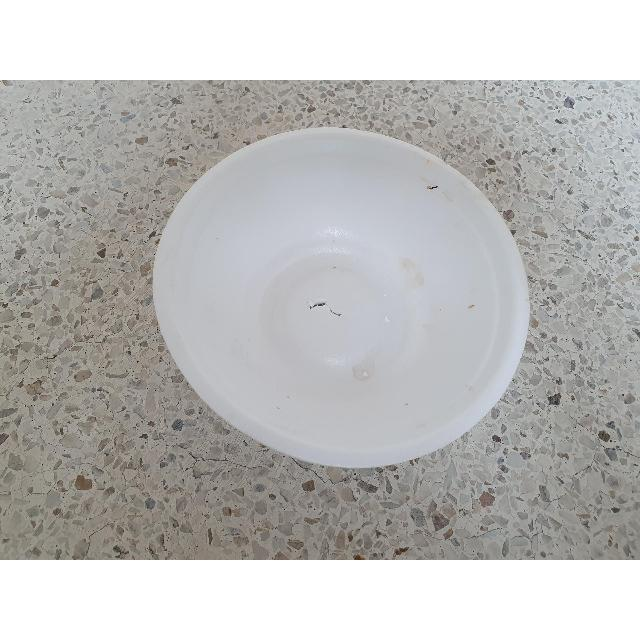Plastico descartable: (152, 127, 531, 471)
